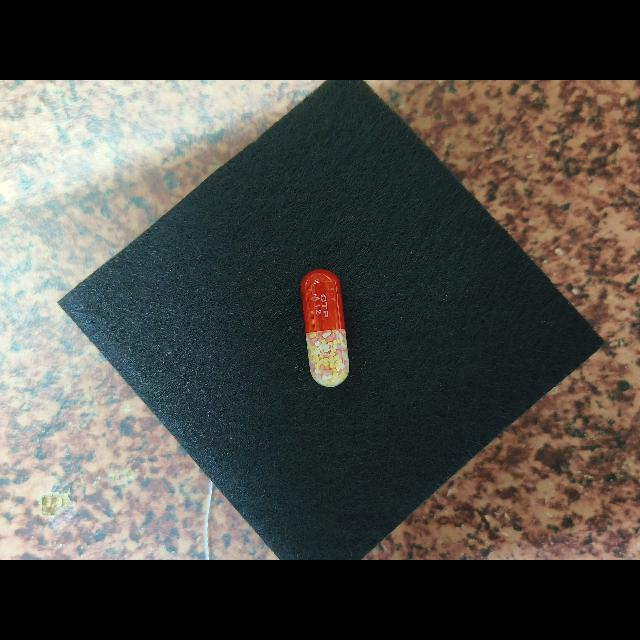Intact Capsule: (301, 269, 349, 387)
